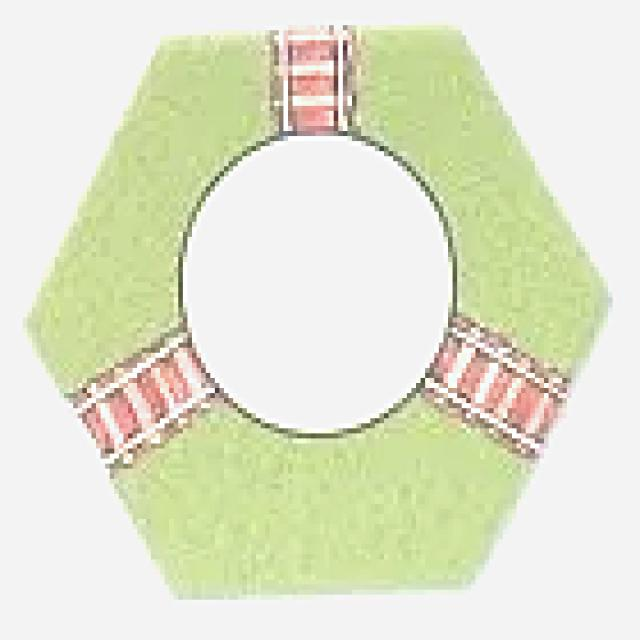11_0: (32, 25, 613, 600)
